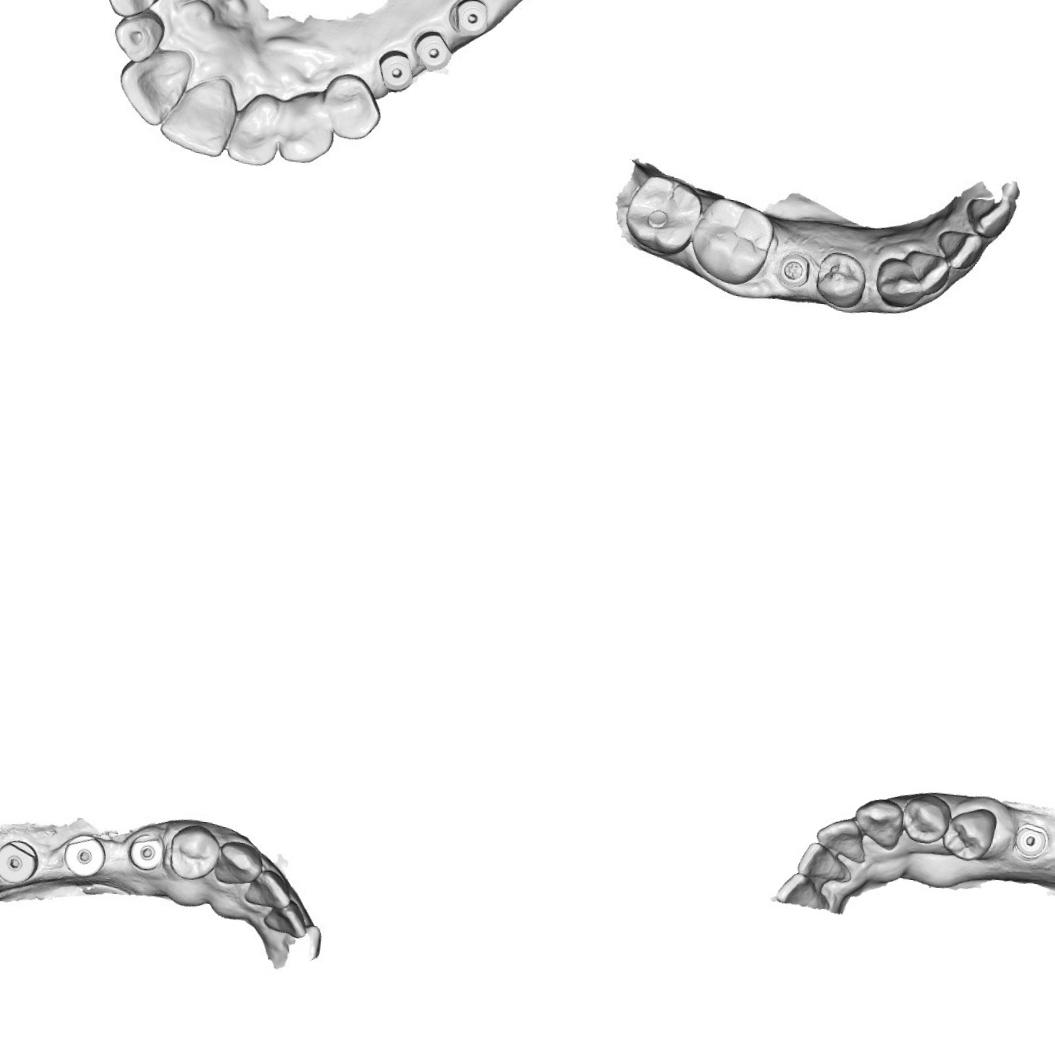canine: (276, 88, 339, 168), (849, 794, 906, 850), (871, 254, 926, 310), (212, 838, 266, 890), (99, 0, 170, 23)
implant: (373, 45, 429, 102), (62, 832, 109, 888), (0, 833, 43, 889), (772, 248, 817, 294), (411, 29, 455, 76), (445, 0, 493, 41), (126, 830, 169, 873), (1011, 821, 1051, 860)
incisor: (157, 74, 240, 160), (116, 47, 192, 129), (219, 95, 287, 171), (105, 10, 164, 64), (794, 838, 857, 888), (812, 813, 870, 865), (963, 189, 1017, 238), (243, 866, 296, 912), (937, 226, 987, 274), (258, 898, 311, 942), (908, 247, 950, 300)
molar: (690, 193, 778, 289), (619, 170, 707, 258)
premolar: (321, 70, 386, 144), (938, 803, 1000, 864), (165, 818, 224, 882), (812, 250, 869, 311), (898, 790, 951, 849)
